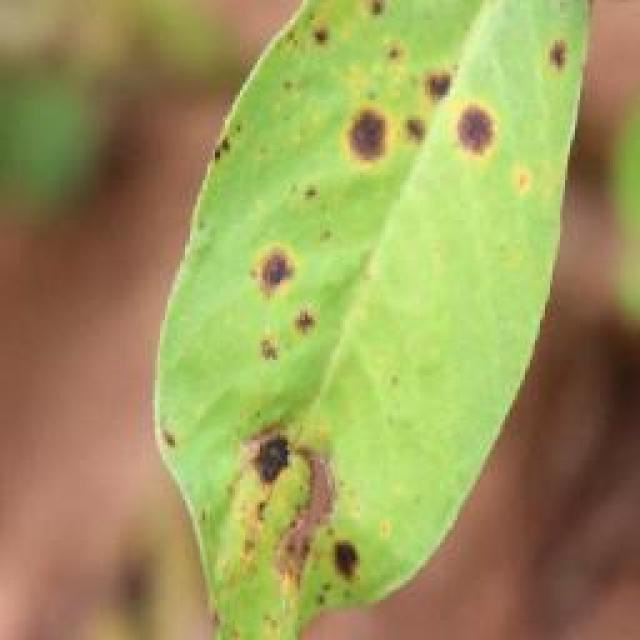Yellowish: (167, 0, 582, 617)
